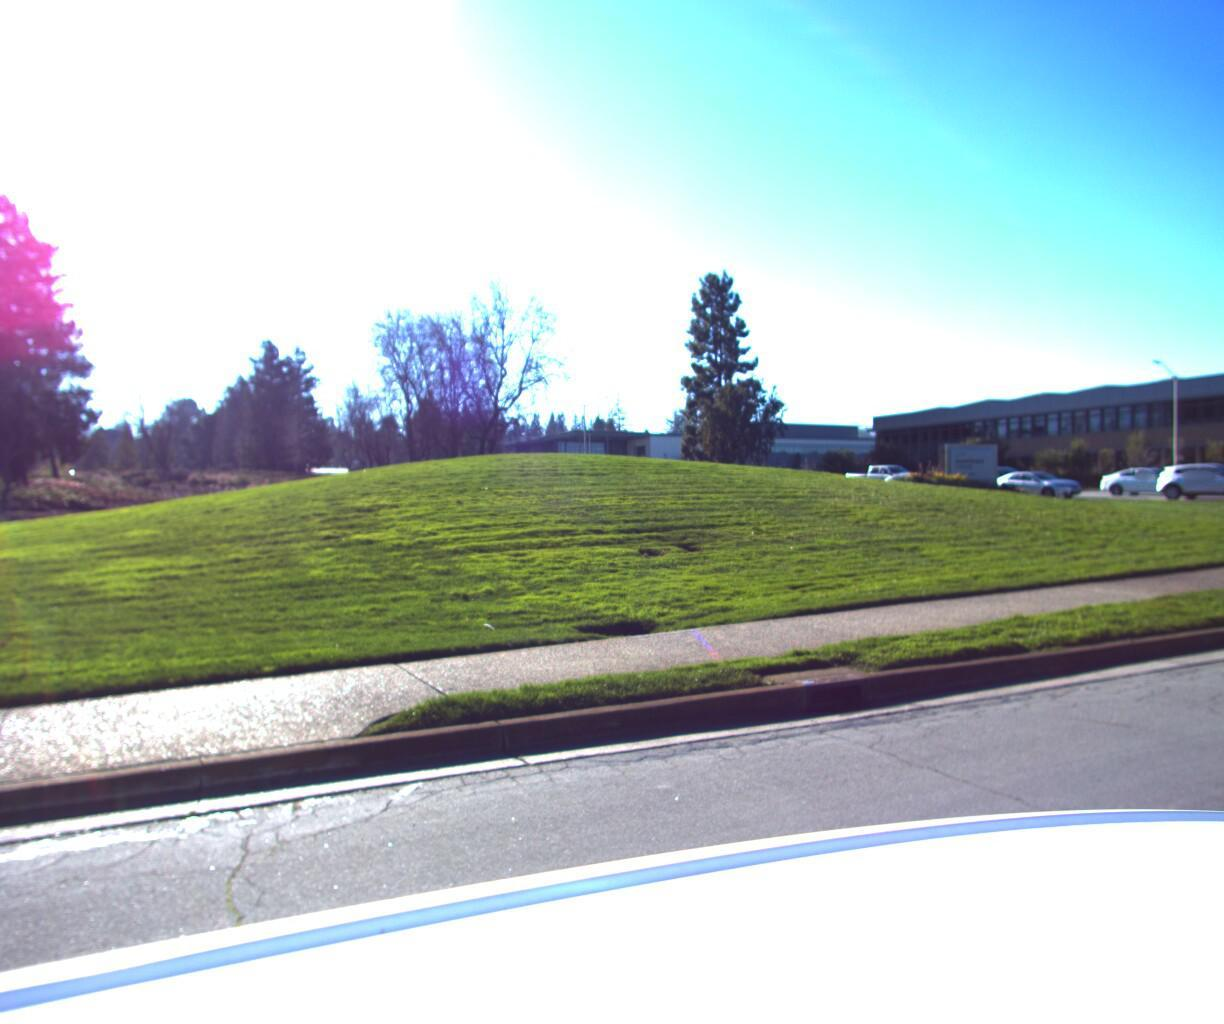car: (1094, 459, 1216, 491), (987, 464, 1088, 493), (1154, 455, 1224, 495), (1206, 460, 1224, 492)
